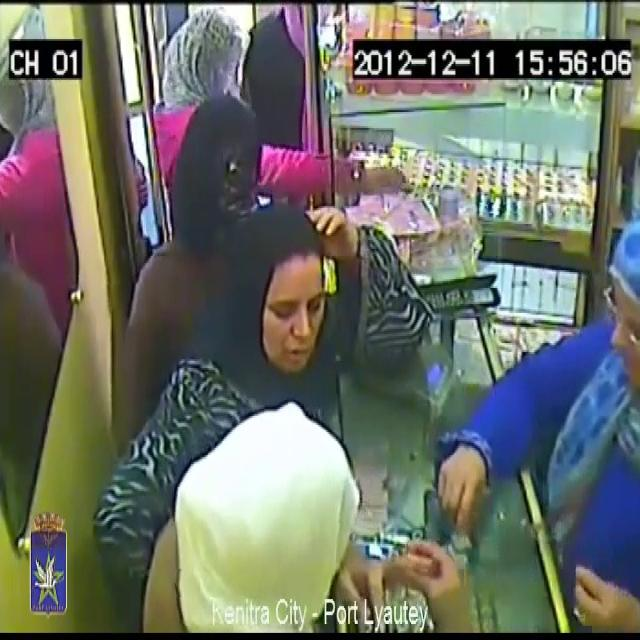Product: (398, 536, 422, 579)
normal: (464, 151, 640, 640), (137, 0, 360, 208), (248, 218, 372, 424), (159, 99, 254, 290), (254, 0, 322, 197)
shoplifting: (116, 410, 445, 640)
